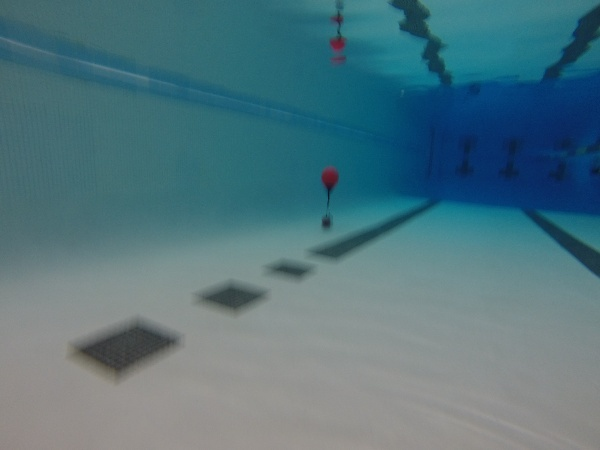buoy_red: (321, 164, 340, 195)
